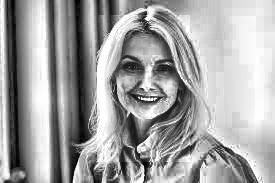happy: (98, 16, 191, 163)
